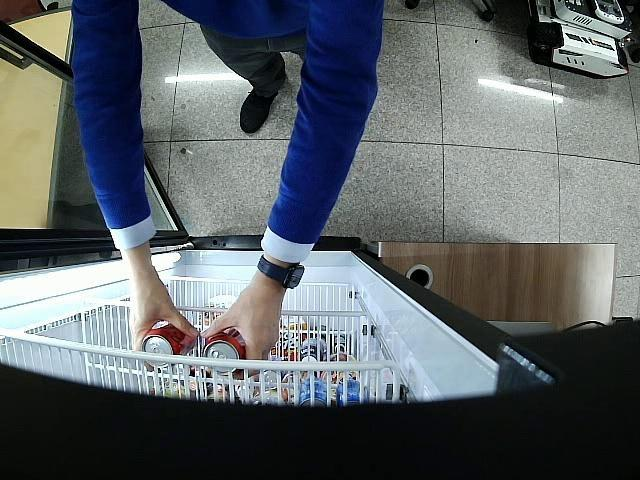11_cocaColaZero: (142, 324, 186, 368), (202, 330, 245, 374)
